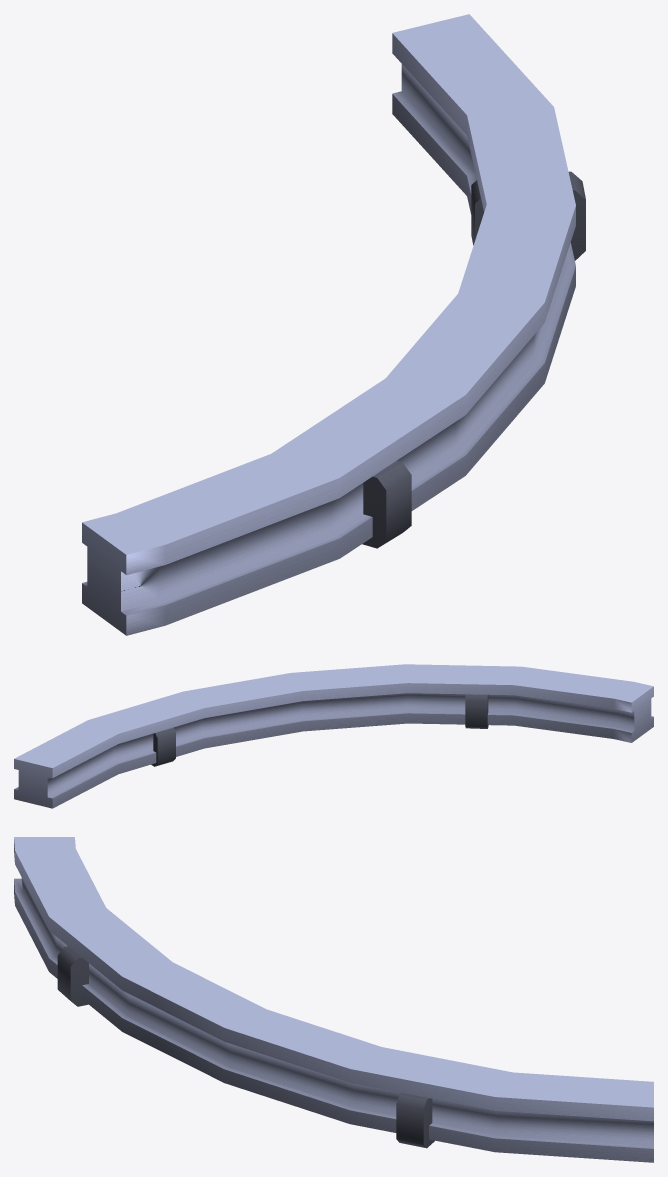
File: coaster-monorail-corner-small.glb
3 renders of one model, top to bottom at view 1: azimuth 30°, elevation 25°; view 2: azimuth 150°, elevation 25°; view 3: azimuth 270°, elevation 25°, orthographic. The views are drawn at different scales.
Visible parts, largest first — view 1: coaster-monorail-corner-small; view 2: coaster-monorail-corner-small; view 3: coaster-monorail-corner-small.
Boxes of the visible parts, x1,y1,x2,y2 form: coaster-monorail-corner-small: (82, 14, 585, 635); coaster-monorail-corner-small: (14, 664, 653, 808); coaster-monorail-corner-small: (14, 837, 653, 1162).
Size of the model in its own units: 6.3 by 0.675 by 6.3.
1 material, 1 textured.
